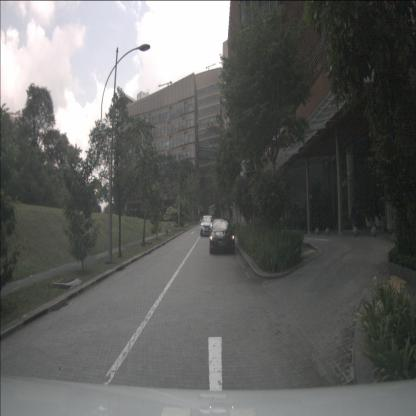human-pedestrian-adult: (350, 201, 356, 234), (354, 202, 360, 230)
vehicle-car: (209, 218, 235, 254), (200, 215, 214, 237)
